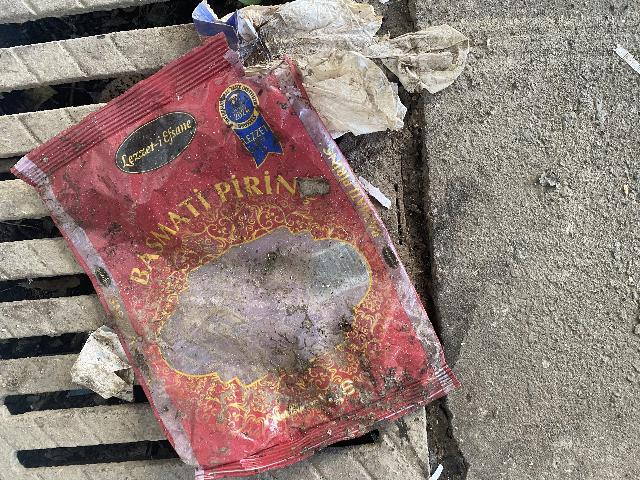Kagit: (241, 0, 459, 97), (60, 332, 135, 392)
Plastik: (29, 51, 444, 444)
